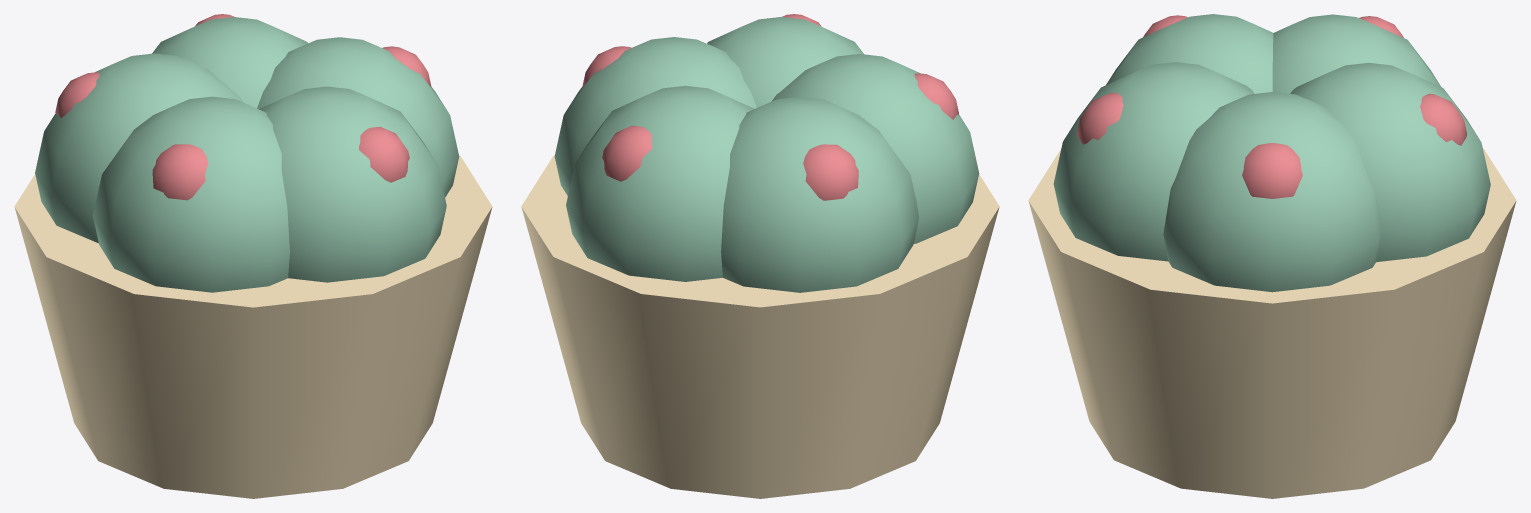
The model's file is prop-square-planter-3.glb.
3 renders of one model, left to right at view 1: azimuth 30°, elevation 25°; view 2: azimuth 150°, elevation 25°; view 3: azimuth 270°, elevation 25°, orthographic. The views are drawn at different scales.
Parts seen in each view (by area): view 1: planter; view 2: planter; view 3: planter.
Part boxes in pixels (bbox=[...]): planter: bbox=[14, 14, 492, 498]; planter: bbox=[521, 14, 999, 498]; planter: bbox=[1028, 14, 1516, 498].
Bounding box in the file's own units: 1.2 × 0.98 × 1.2.
